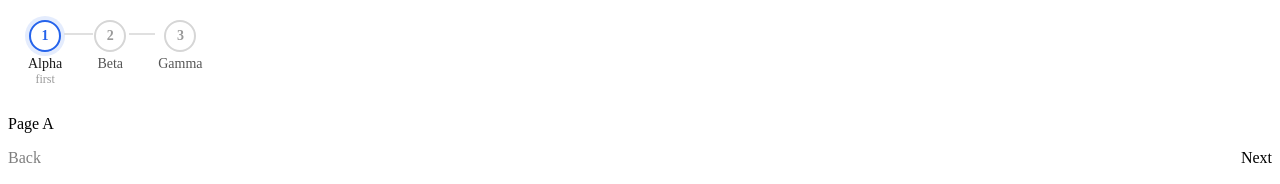
Scenario: CoarWizard › makes completed steps clickable (linear) but not the active or upcoming ones
Click the button "Next" at (1256, 158), box [1241,149,1272,167]
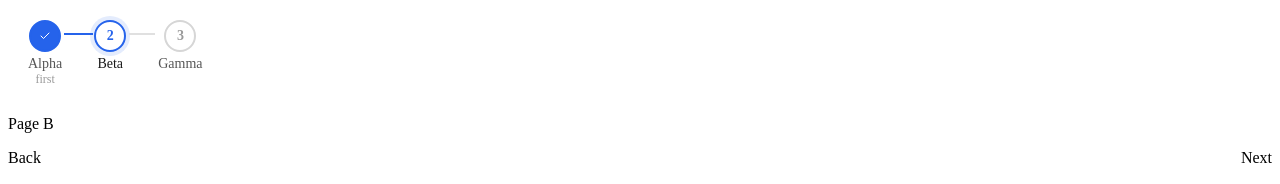
Now the list item with class "coar-wizard__step" has class "coar-wizard__step--clickable"
Click the button "Alpha first" at (45, 54), box [12,12,78,95]
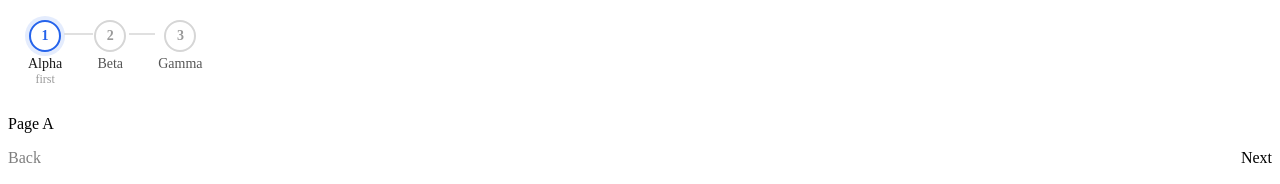
Now the text "Page A" is shown, box [8,115,54,132]
